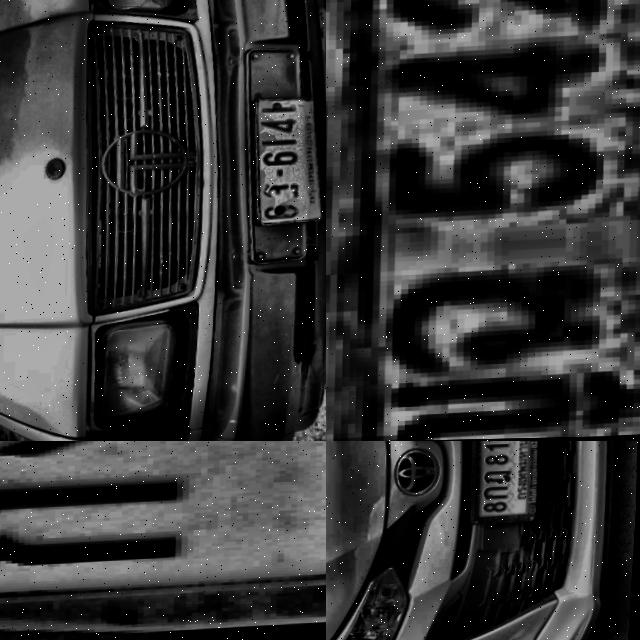license-plate: (326, 0, 640, 441), (0, 441, 326, 640), (246, 92, 326, 229), (468, 441, 547, 526)
